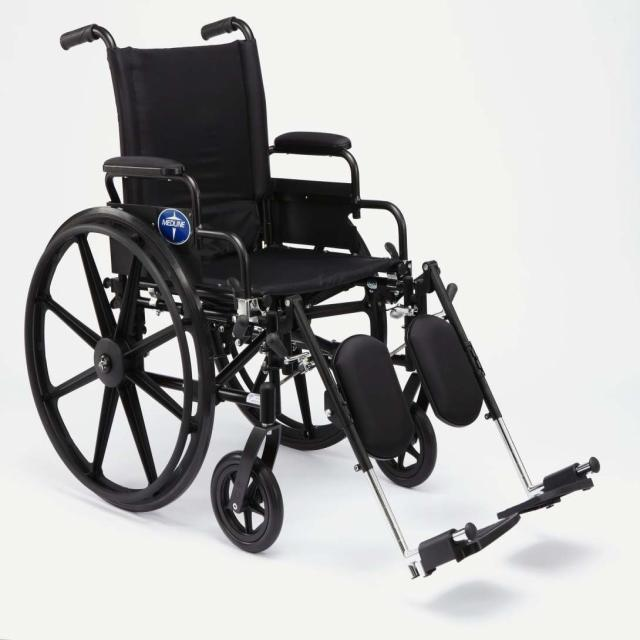wheelchair: (16, 9, 621, 596)
